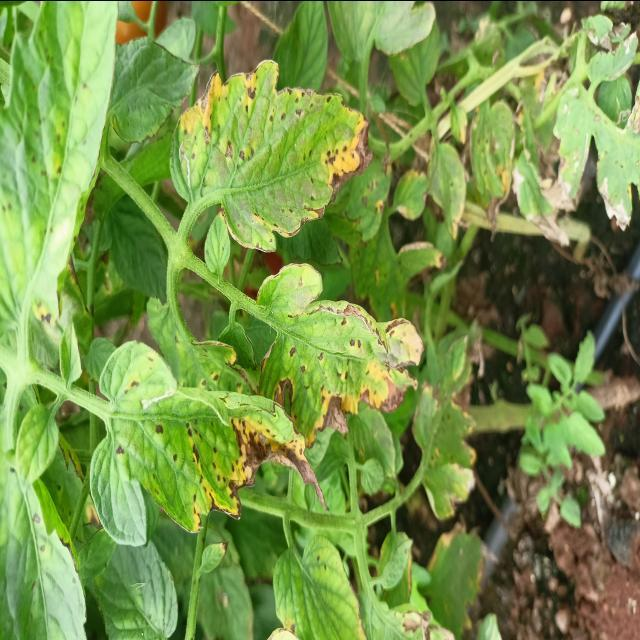Tomato mosaic virus leaf: (106, 348, 330, 538), (194, 55, 374, 258), (255, 256, 426, 448)
